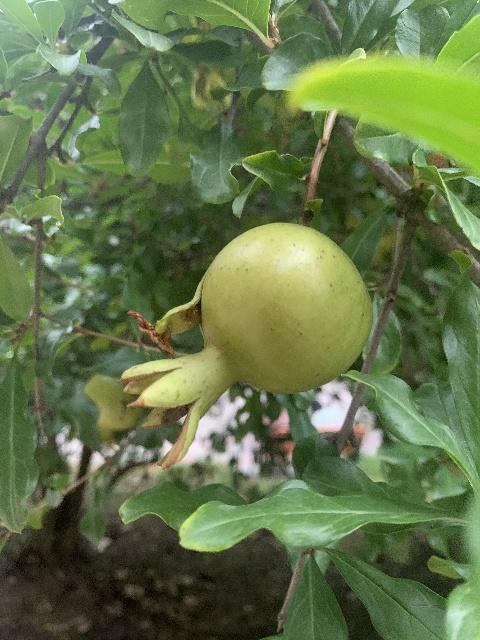mid-growth: (120, 221, 370, 469)
